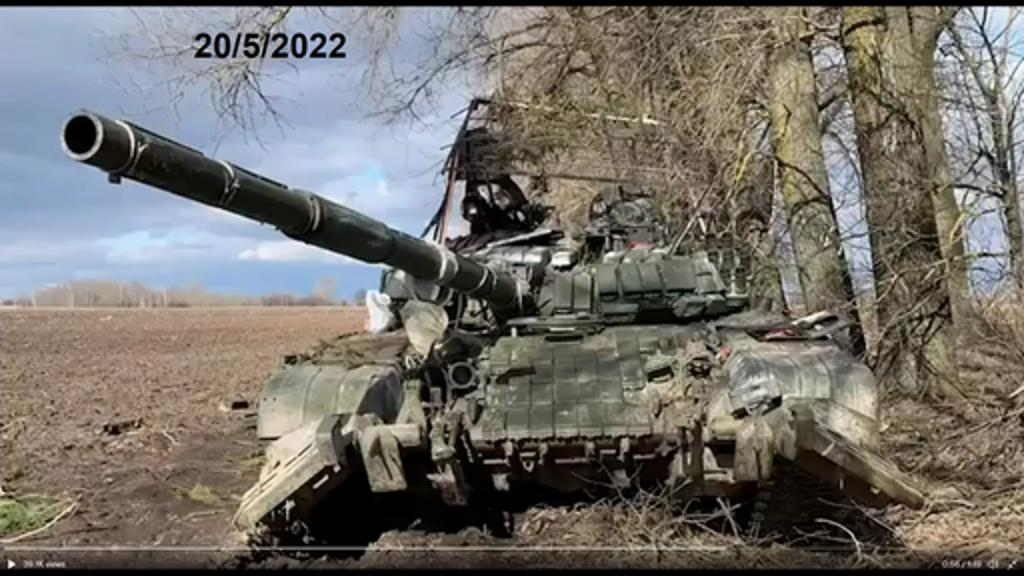TANK: (70, 100, 898, 558)
